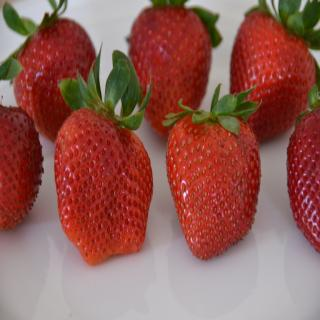Strawberry: (53, 45, 153, 265), (162, 85, 262, 259), (0, 0, 96, 144), (128, 0, 221, 140), (230, 0, 320, 144), (0, 100, 45, 230), (285, 88, 320, 253)
